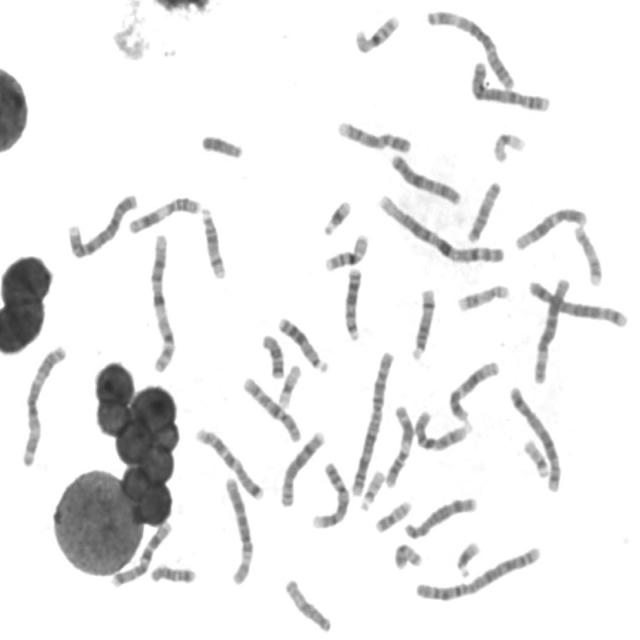A1: (374, 189, 508, 266), (146, 228, 177, 374)
A2: (411, 541, 544, 604), (348, 346, 396, 499)
A3: (423, 5, 518, 91), (16, 339, 69, 468)
B4: (63, 189, 139, 261), (467, 56, 553, 114)
B5: (506, 382, 564, 494), (524, 275, 630, 330)
C10: (239, 372, 303, 443), (409, 404, 474, 454)
C11: (124, 193, 202, 235), (381, 400, 415, 490)
C12: (512, 202, 589, 252), (445, 356, 501, 422)
C6: (529, 274, 573, 386), (221, 472, 255, 587)
C7: (191, 424, 266, 502), (106, 518, 173, 588)
C8: (276, 426, 327, 509), (400, 492, 479, 540)
C9: (334, 116, 414, 155), (308, 458, 351, 530)
D13: (275, 312, 330, 374), (341, 263, 364, 342)
D14: (407, 284, 438, 362), (197, 203, 228, 281)
D15: (281, 574, 333, 634), (463, 177, 503, 245)
E16: (351, 10, 401, 54), (322, 229, 371, 272)
E17: (571, 221, 604, 288), (454, 278, 512, 314)
E18: (258, 330, 286, 380), (146, 560, 198, 586)
F19: (274, 360, 303, 410), (490, 129, 526, 165)
F20: (372, 496, 412, 534), (391, 539, 424, 571)
G21: (319, 195, 353, 237), (452, 536, 482, 578)
G22: (520, 434, 551, 480), (356, 465, 386, 512)
X: (387, 150, 463, 207)
Y: (198, 130, 245, 161)
